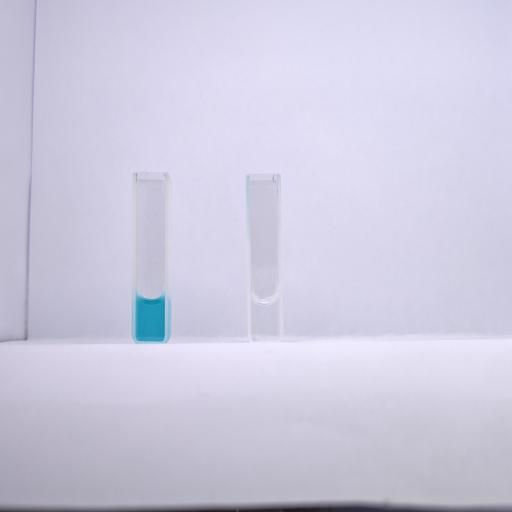cuvette: (130, 170, 171, 347), (244, 172, 286, 344)
liquid: (136, 296, 165, 342), (250, 295, 279, 340)
